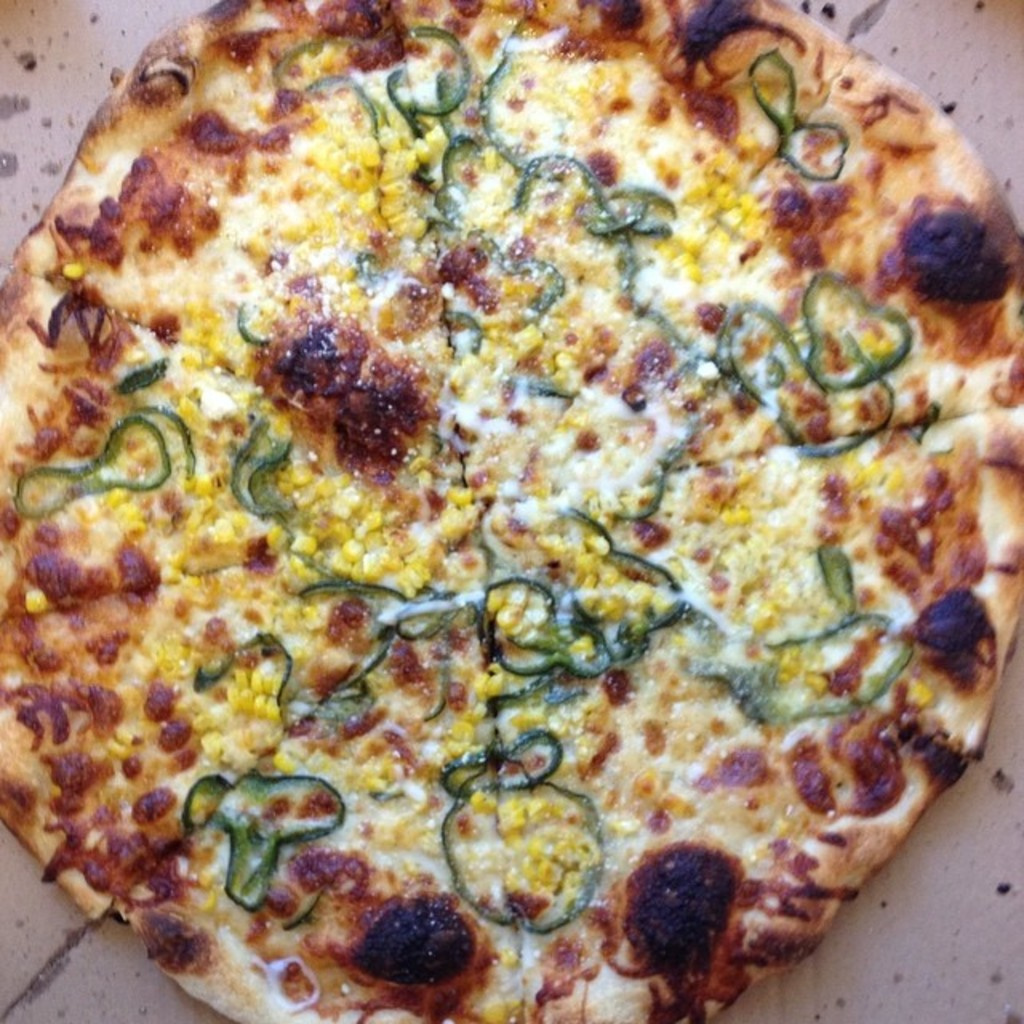pizza: (0, 5, 1022, 1022)
